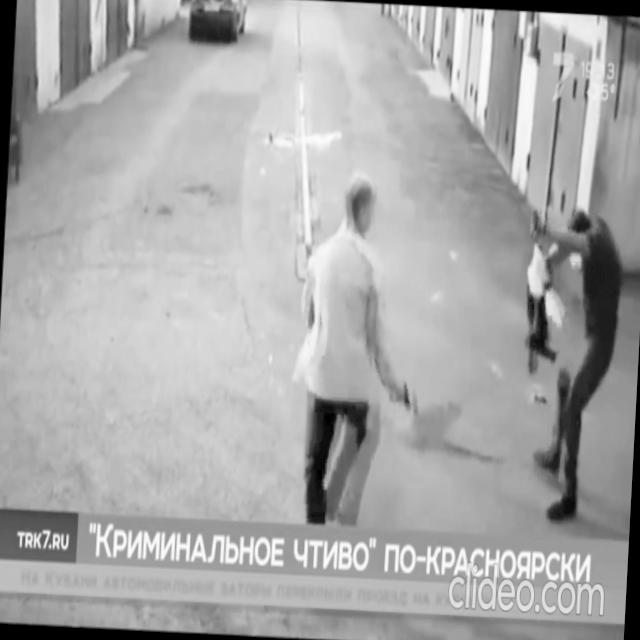gun: (400, 378, 414, 414)
person: (512, 200, 628, 525)
person with a gun: (288, 168, 424, 528)
